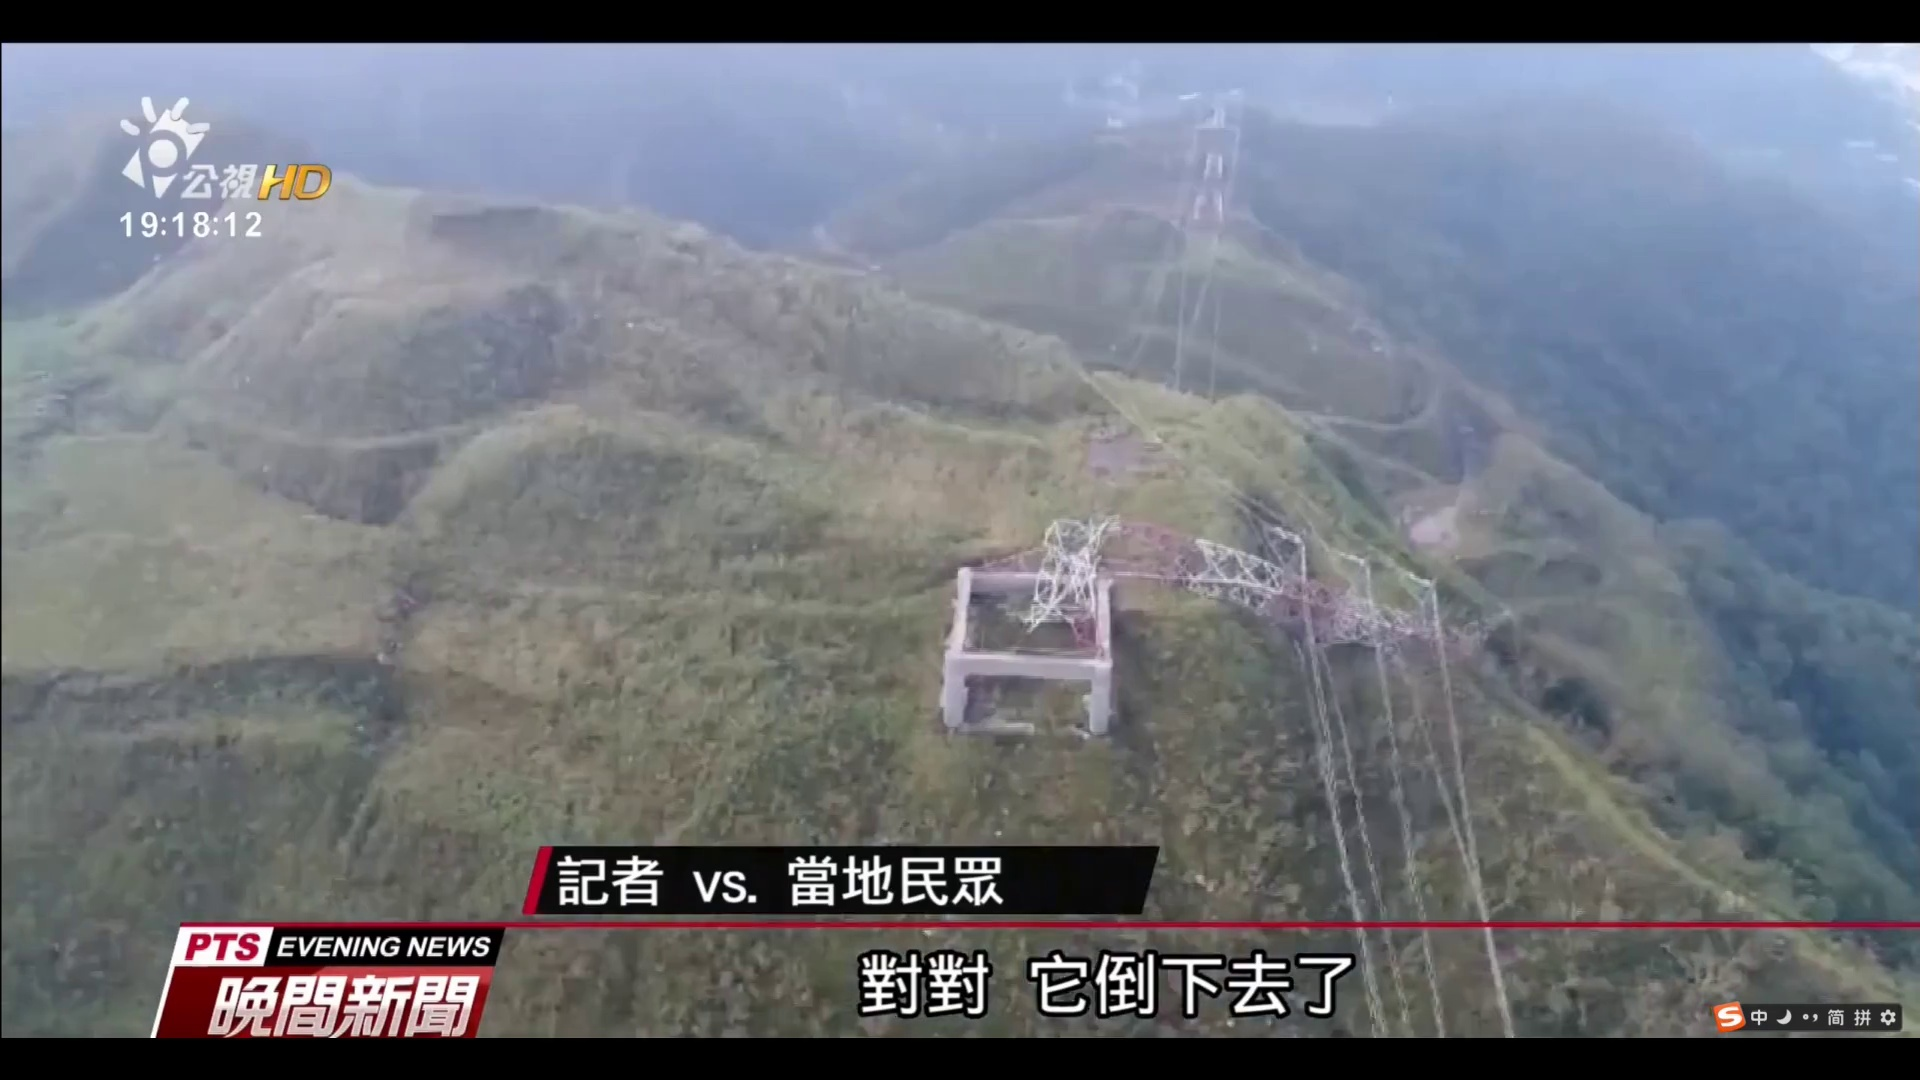tower_down: (1029, 497, 1447, 661)
